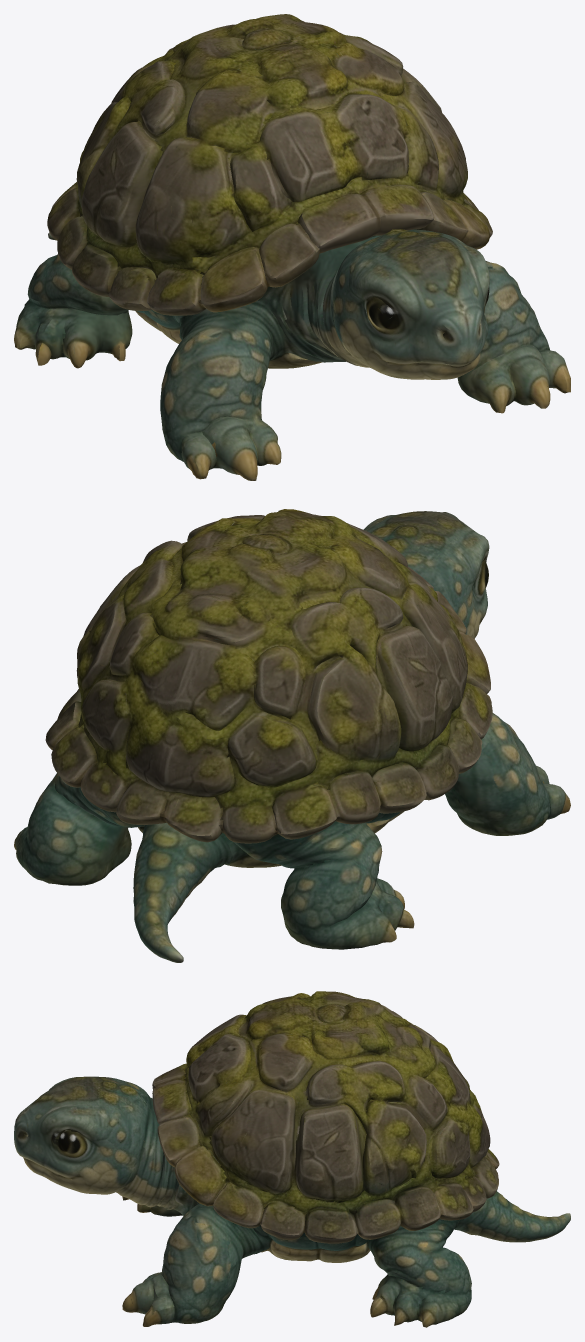
File: mosshell.glb
The picture shows the model from 3 angles, top to bottom: view 1: azimuth 30°, elevation 25°; view 2: azimuth 150°, elevation 25°; view 3: azimuth 270°, elevation 25°; orthographic projection. The views are drawn at different scales.
Visible parts, largest first — view 1: Mesh_0; view 2: Mesh_0; view 3: Mesh_0.
Part boxes in pixels (x1,y1,x2,y2): Mesh_0: (14, 14, 570, 480); Mesh_0: (14, 509, 570, 962); Mesh_0: (14, 991, 570, 1327).
Size of the model in its own units: 1.18 by 0.9365 by 1.9.
Materials: 1 (1 with a texture image).
